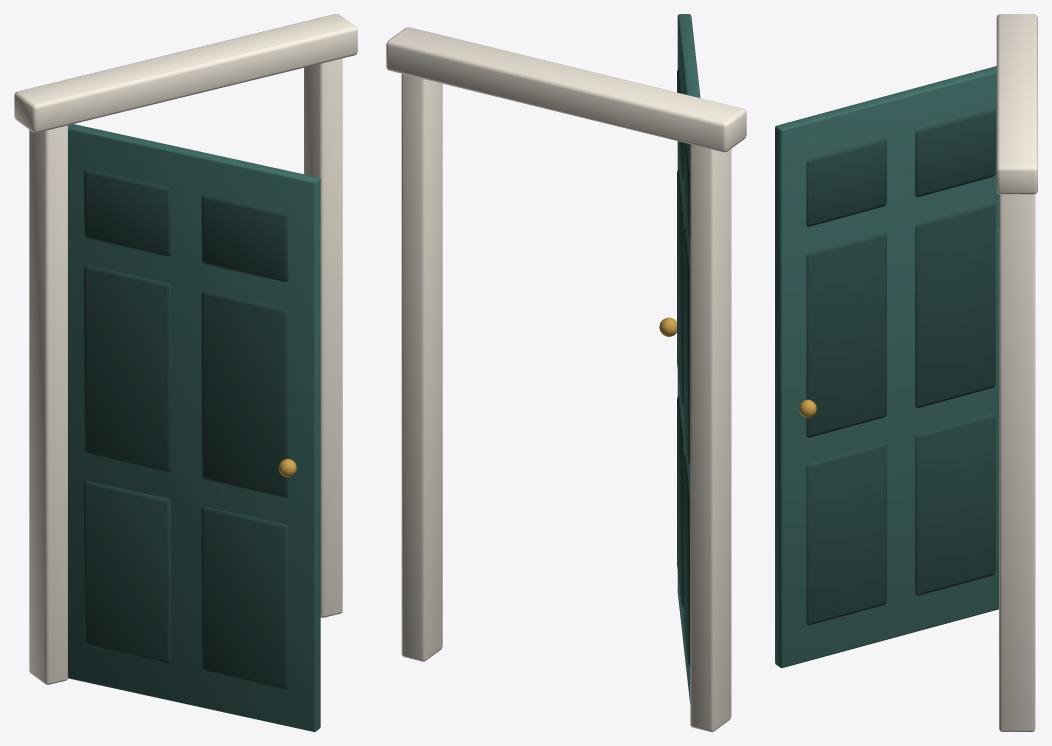
Rendered from old_door.glb.
The picture shows the model from 3 angles, left to right: view 1: azimuth 30°, elevation 25°; view 2: azimuth 150°, elevation 25°; view 3: azimuth 270°, elevation 25°; orthographic projection. The views are drawn at different scales.
Parts seen in each view (by area): view 1: leaf, frame; view 2: frame, leaf; view 3: leaf, frame.
Part boxes in pixels (left/top/right/bottom): leaf: left=68, top=124, right=320, bottom=731; frame: left=14, top=14, right=357, bottom=684; frame: left=386, top=27, right=746, bottom=731; leaf: left=659, top=14, right=700, bottom=703; leaf: left=775, top=66, right=998, bottom=667; frame: left=996, top=14, right=1037, bottom=731.
Size of the model in its own units: 1.42 by 2.44 by 1.02.
